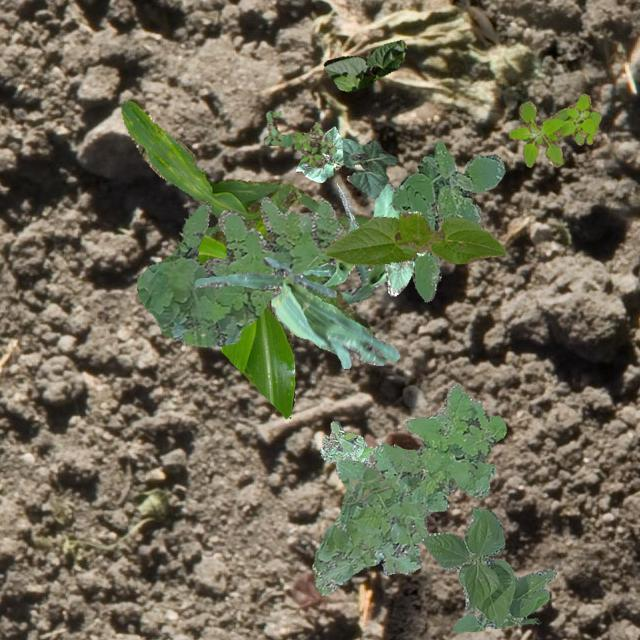crop: (121, 99, 371, 418), (194, 255, 398, 368), (420, 506, 556, 632), (324, 212, 506, 264), (340, 182, 400, 302), (296, 188, 358, 286), (322, 38, 406, 90), (340, 136, 396, 198), (294, 126, 342, 182), (384, 250, 424, 294)
weed: (312, 382, 506, 594), (136, 196, 344, 346), (388, 140, 504, 300), (508, 92, 600, 166), (264, 110, 336, 167), (318, 420, 374, 462)
